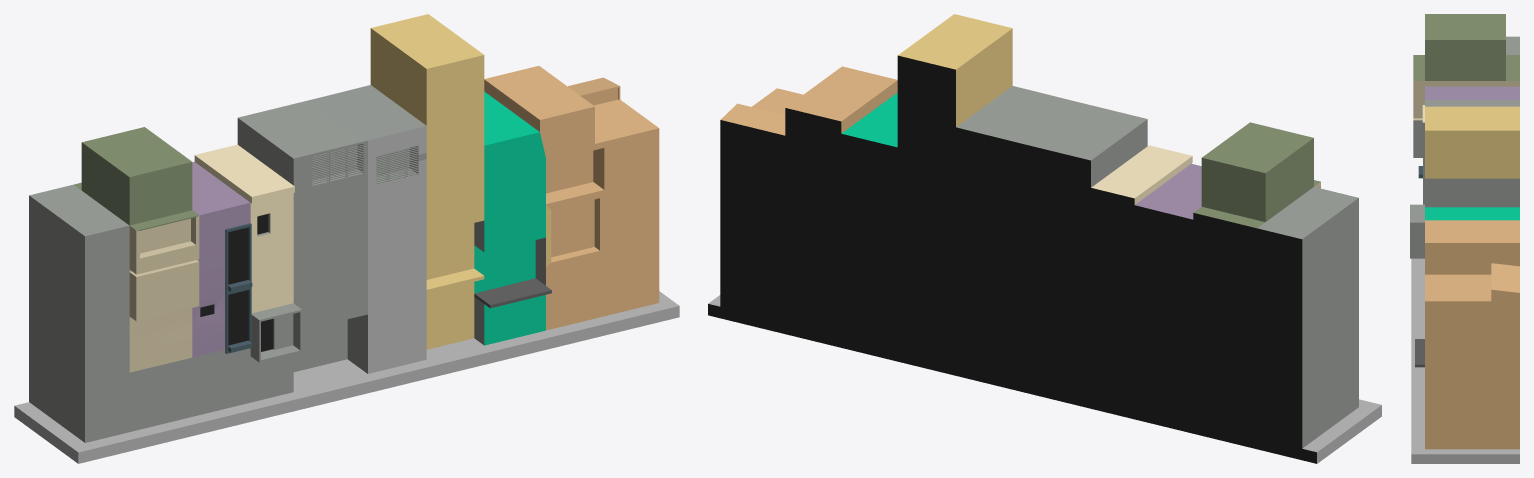
File: TubeHouse.fbx
3 views of the same model, side by side, from view 1: azimuth 30°, elevation 25°; view 2: azimuth 150°, elevation 25°; view 3: azimuth 270°, elevation 25° (orthographic). The views are drawn at different scales.
Parts seen in each view (by area): view 1: tubeHouse.001; view 2: tubeHouse.001; view 3: tubeHouse.001.
Part boxes in pixels (bbox=[...]): tubeHouse.001: bbox=[14, 14, 679, 463]; tubeHouse.001: bbox=[708, 14, 1381, 463]; tubeHouse.001: bbox=[1410, 14, 1519, 463].
Bounding box in the file's own units: 1618 × 777 × 302.
Materials: 1 (1 with a texture image).
